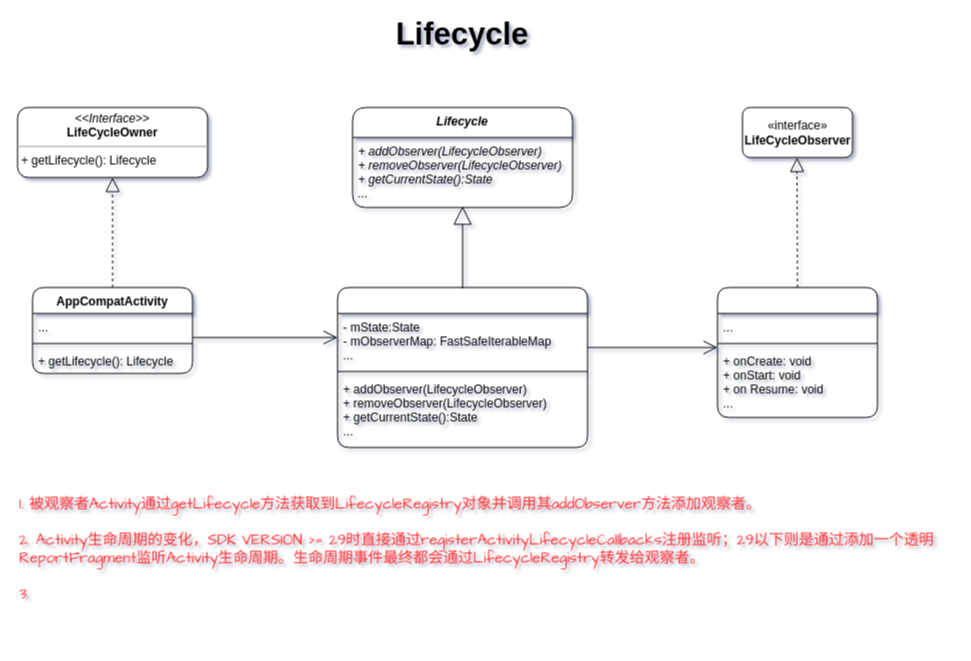
The diagram is 971 pixels wide and 661 high, and some of its shapes have lost their labels. Here are the shapes that lost their labels. From the top down, the box of each, then its label:
(336, 286, 588, 448): LifecycleRegistry
(716, 286, 878, 418): MyLifeCycleObserver
